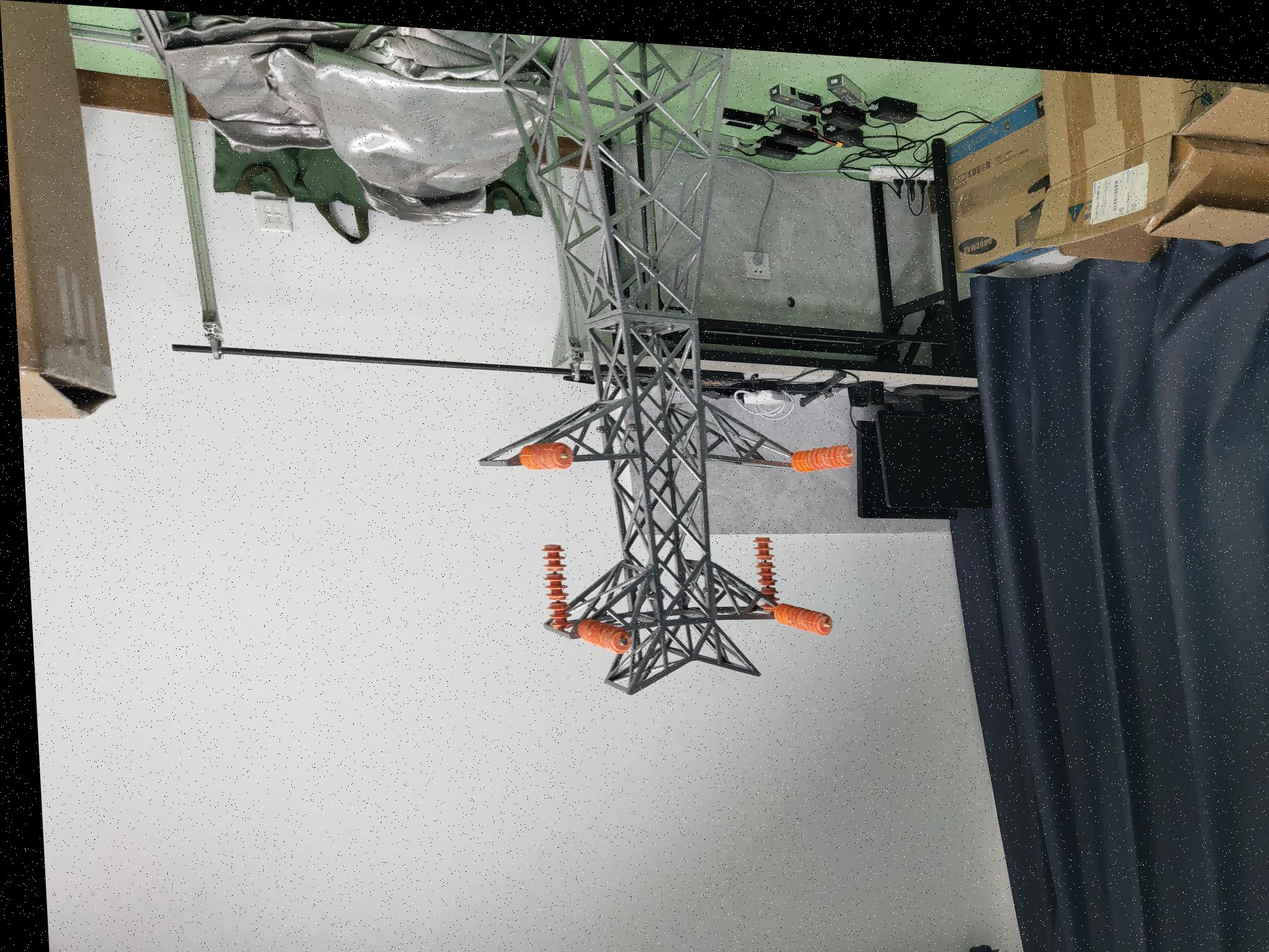tower: (457, 30, 799, 708)
